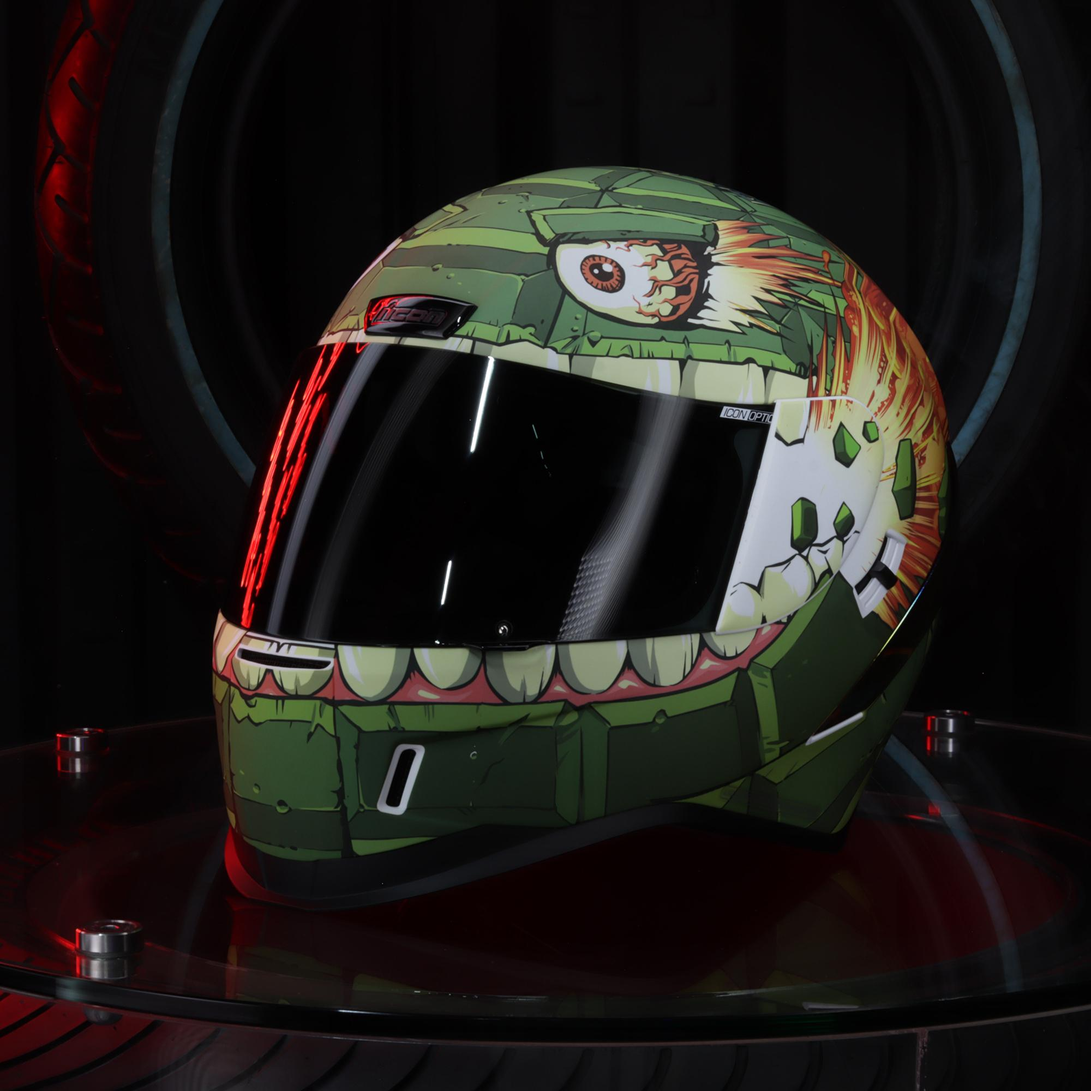helmet: (208, 162, 965, 916)
